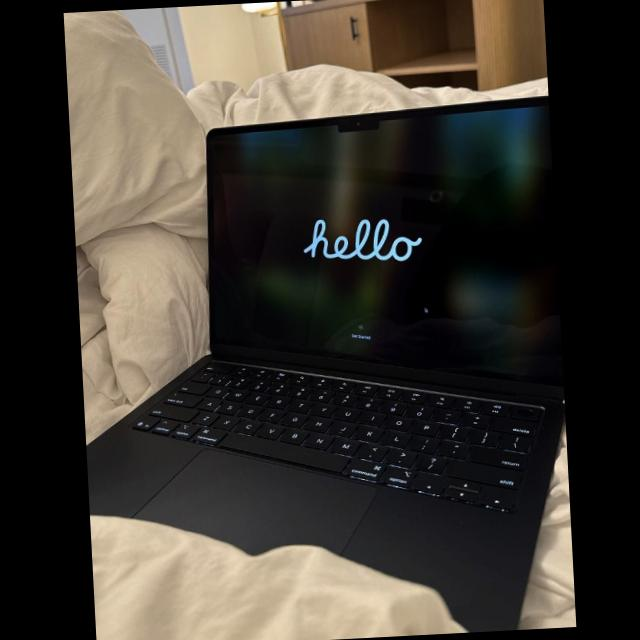laptop: (88, 96, 565, 631)
